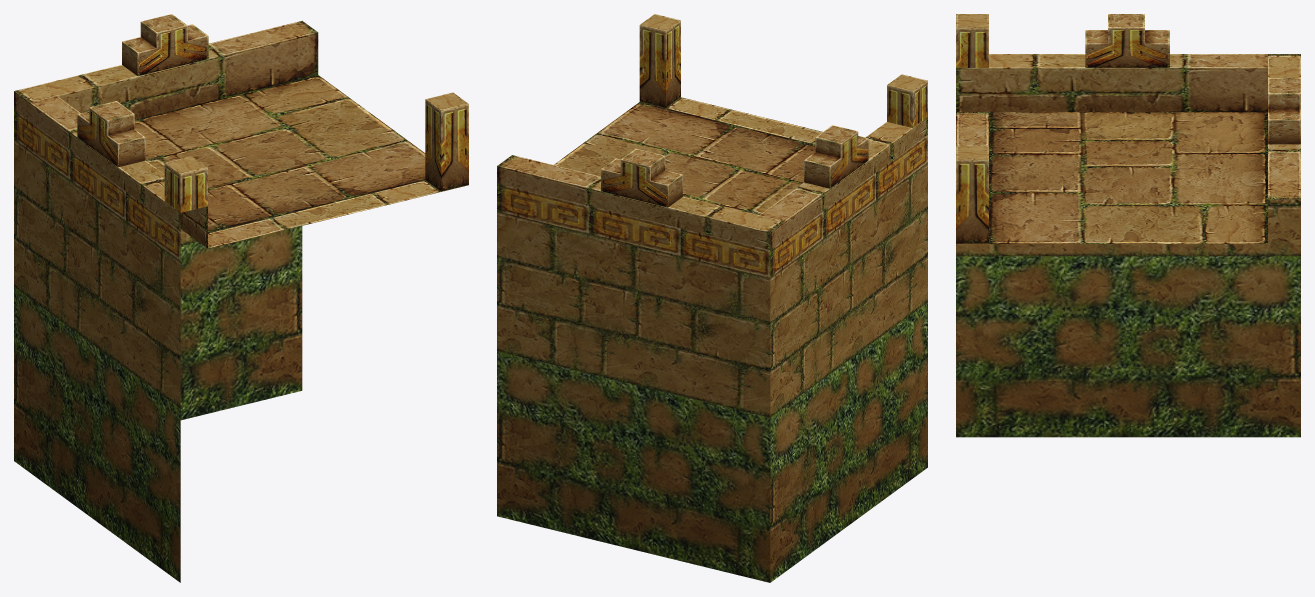
The model's file is TempleRoad06.FBX.
3 views of the same model, side by side, from view 1: azimuth 30°, elevation 25°; view 2: azimuth 150°, elevation 25°; view 3: azimuth 270°, elevation 25° (orthographic). The views are drawn at different scales.
Visible parts, largest first — view 1: TempleRoad06; view 2: TempleRoad06; view 3: TempleRoad06.
Part boxes in pixels (bbox=[...]): TempleRoad06: bbox=[14, 14, 468, 582]; TempleRoad06: bbox=[497, 14, 927, 582]; TempleRoad06: bbox=[956, 14, 1300, 437].
Bounding box in the file's own units: 500 × 677 × 500.
